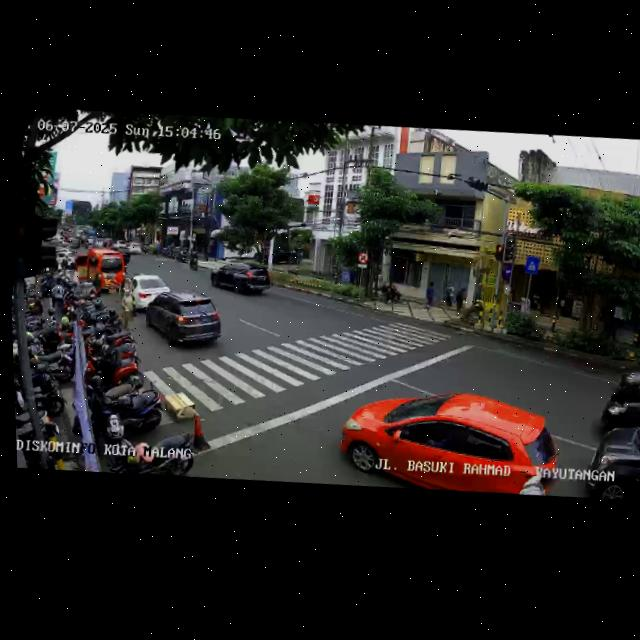car: (335, 376, 564, 506), (141, 283, 232, 353), (583, 405, 640, 503), (594, 364, 640, 436), (208, 255, 274, 302), (68, 244, 127, 295), (119, 270, 173, 315)
person: (424, 279, 436, 312), (453, 287, 463, 317)
